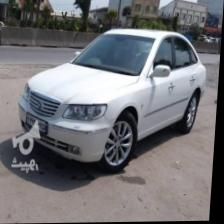plate: (27, 111, 52, 135)
